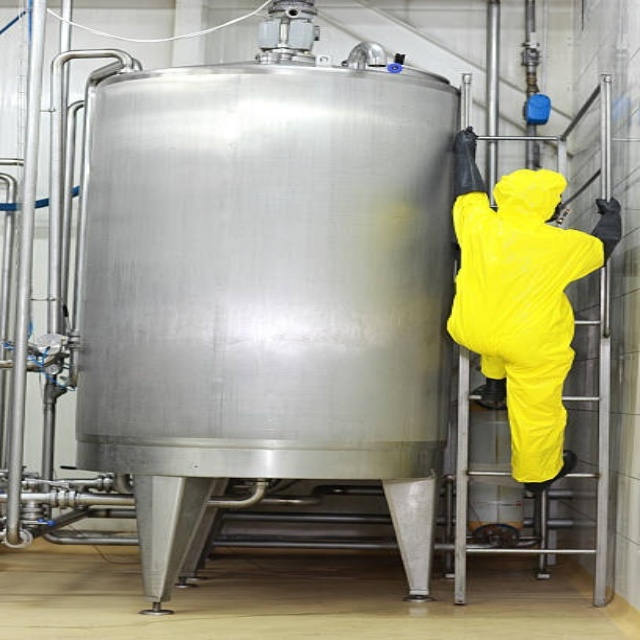Guantes: (453, 128, 487, 197), (590, 199, 623, 257)
